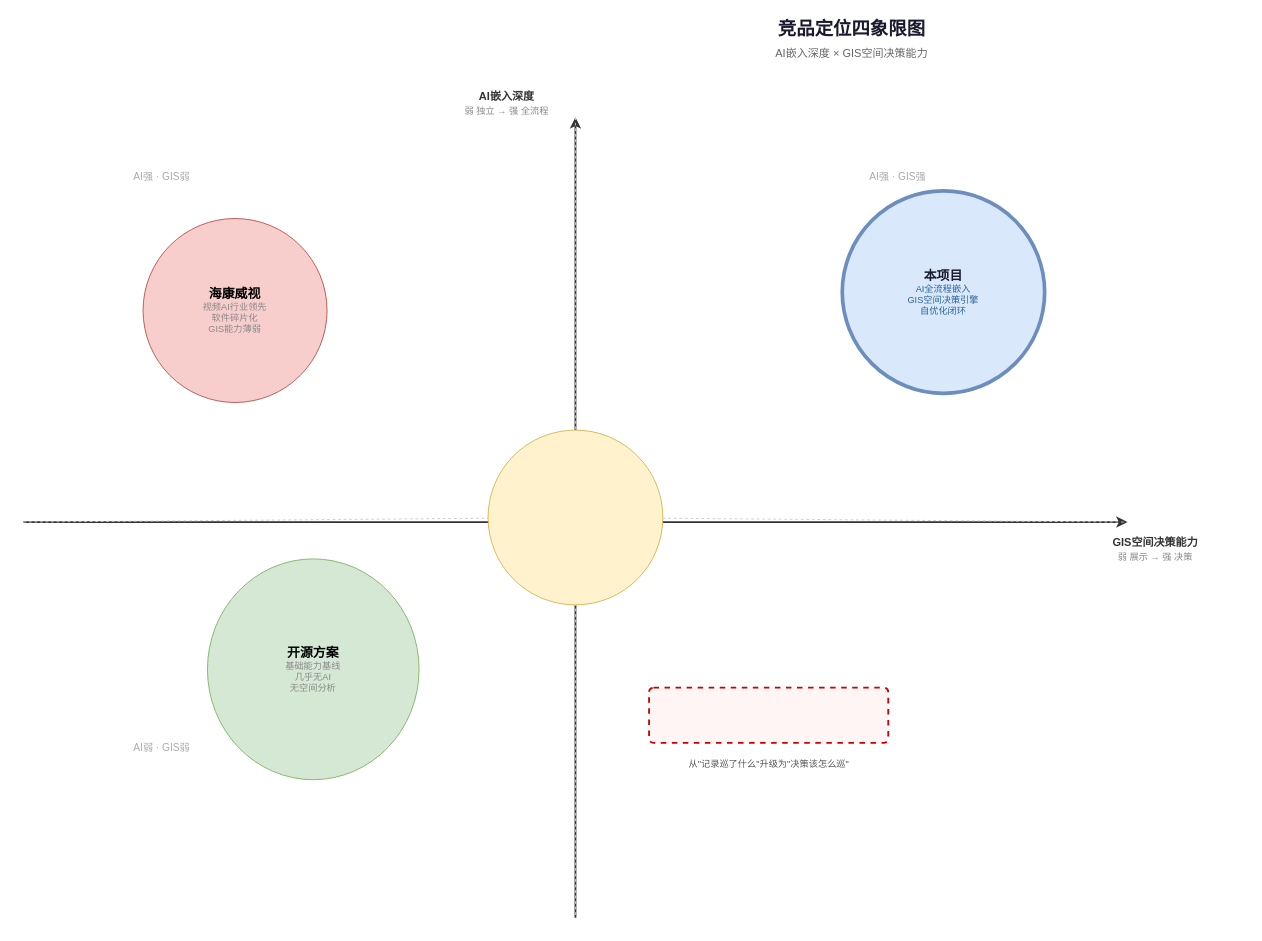
Some shapes in this 1262 by 941 pixel diagram are drawn without their labels. Here are the shapes that lost their labels. From the top down, the box of each, then its label:
(487, 429, 663, 605): 广联达 BIM核心壁垒 BIM+GIS电子沙盘 场景绑定过深
(648, 686, 889, 743): 竞争空白 AI全流程嵌入 × GIS空间决策 × 自优化闭环
